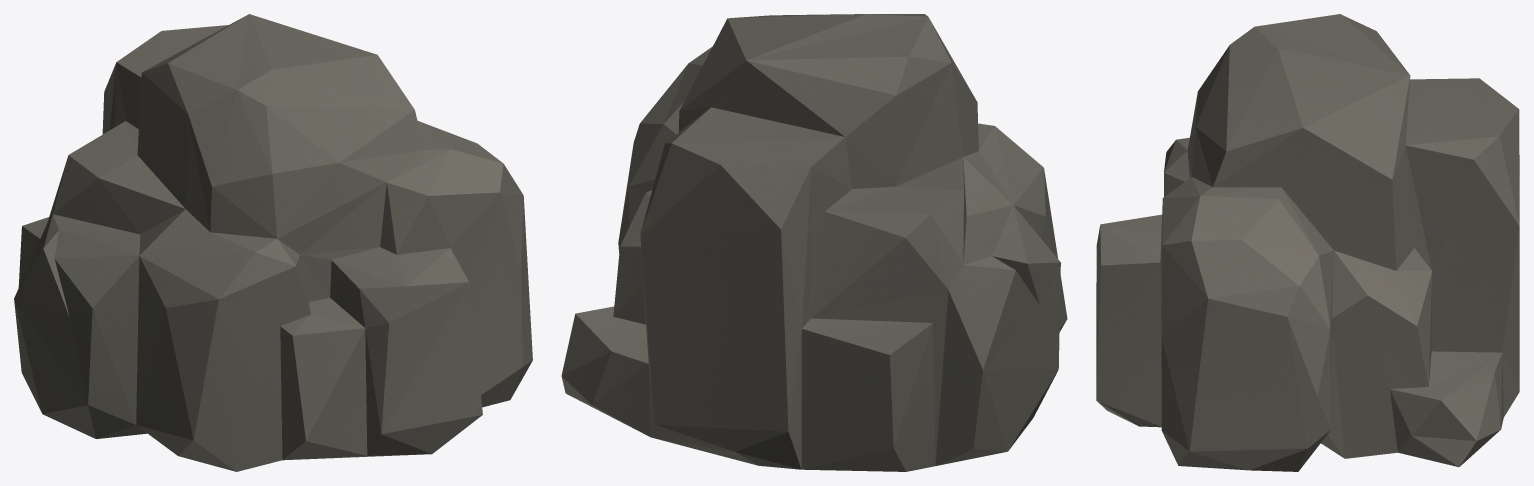
The model's file is Rock_Big_1.fbx.
The picture shows the model from 3 angles, left to right: view 1: azimuth 30°, elevation 25°; view 2: azimuth 150°, elevation 25°; view 3: azimuth 270°, elevation 25°; orthographic projection. The views are drawn at different scales.
Parts seen in each view (by area): view 1: Group53374; view 2: Group53374; view 3: Group53374.
Boxes of the visible parts, bbox=[...] form: Group53374: bbox=[14, 14, 532, 471]; Group53374: bbox=[561, 14, 1067, 471]; Group53374: bbox=[1096, 14, 1519, 471].
Bounding box in the file's own units: 996 × 816 × 938.
1 material, 1 textured.
